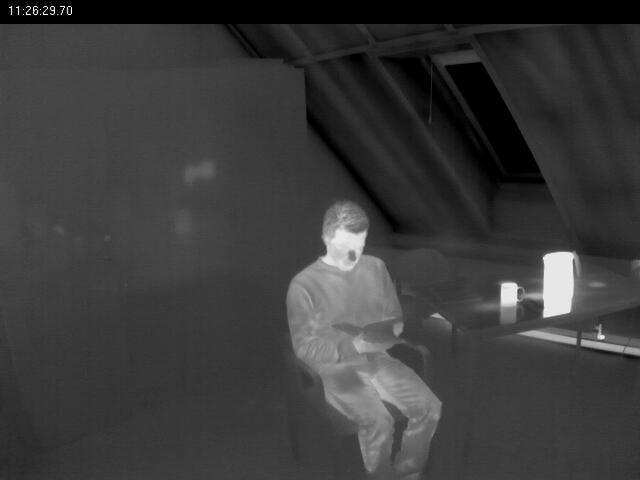person: (284, 196, 448, 480)
